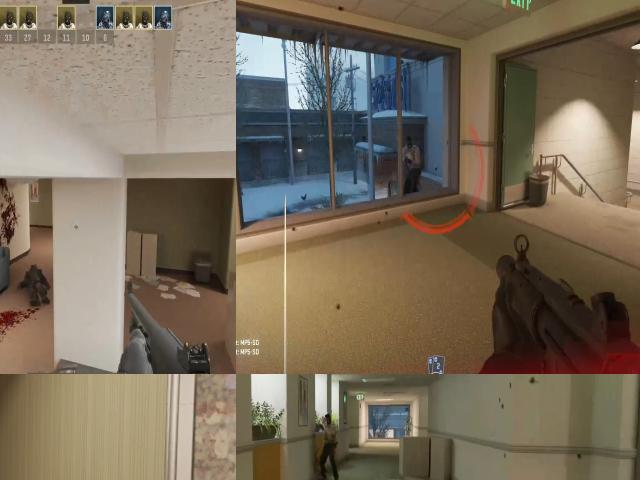Dead: (19, 253, 55, 312)
T: (403, 132, 423, 179), (321, 412, 336, 450)
T-Head: (404, 135, 416, 153), (326, 414, 334, 431)
